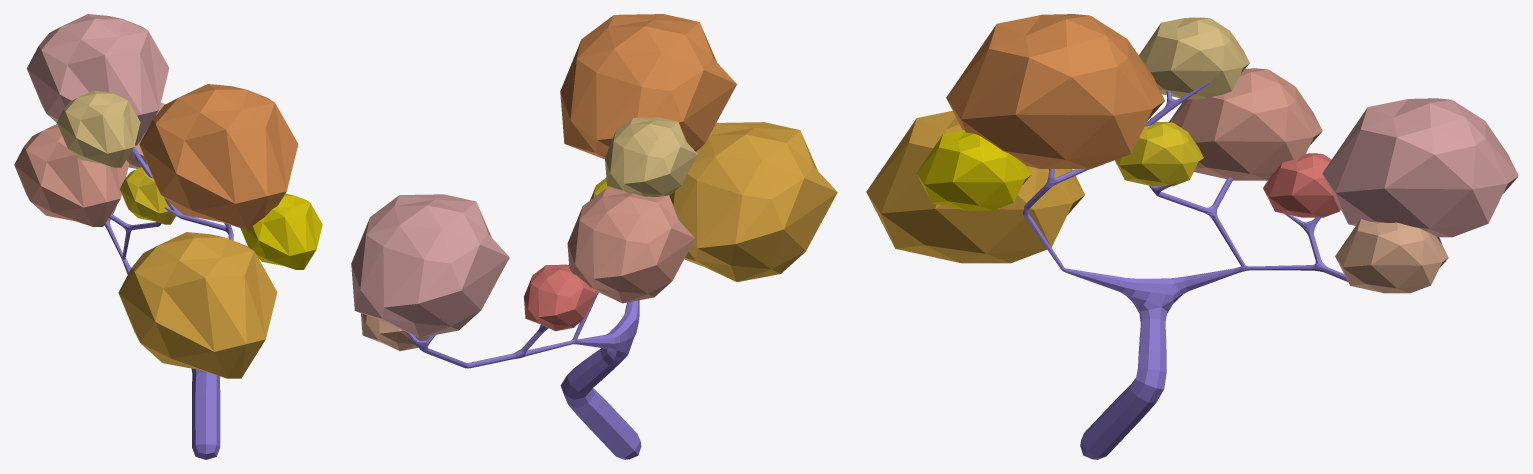
Rendered from tree.fbx.
The picture shows the model from 3 angles, left to right: view 1: azimuth 30°, elevation 25°; view 2: azimuth 150°, elevation 25°; view 3: azimuth 270°, elevation 25°; orthographic projection. The views are drawn at different scales.
Visible parts, largest first — view 1: Icosphere.007; view 2: Icosphere.007; view 3: Icosphere.007.
Part boxes in pixels (box(x1,y1,x2,y2)): Icosphere.007: box(14, 14, 322, 459); Icosphere.007: box(351, 14, 837, 459); Icosphere.007: box(866, 14, 1518, 459).
Size of the model in its own units: 1014 by 1672 by 2257.
